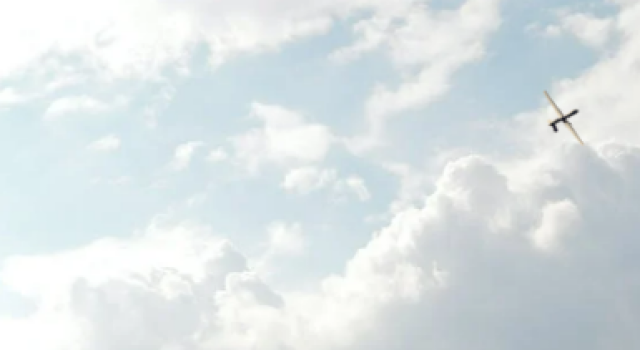military drone: (542, 89, 584, 144)
